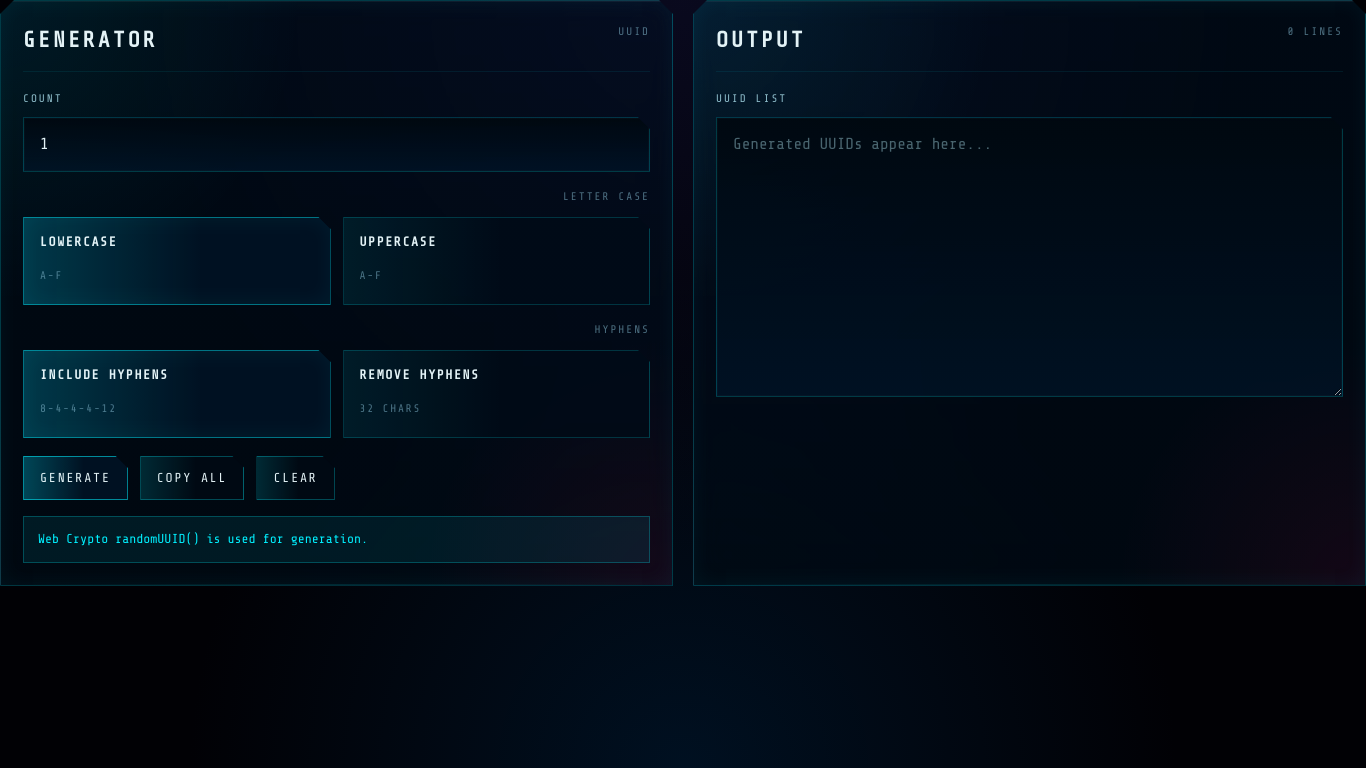
Scenario: encoding and text tools › generates, copies, and clears UUID batches
The image size is (1366, 768).
Replace the text in the number field labelled "Count" with "5" at (336, 144), box [23, 117, 650, 172]
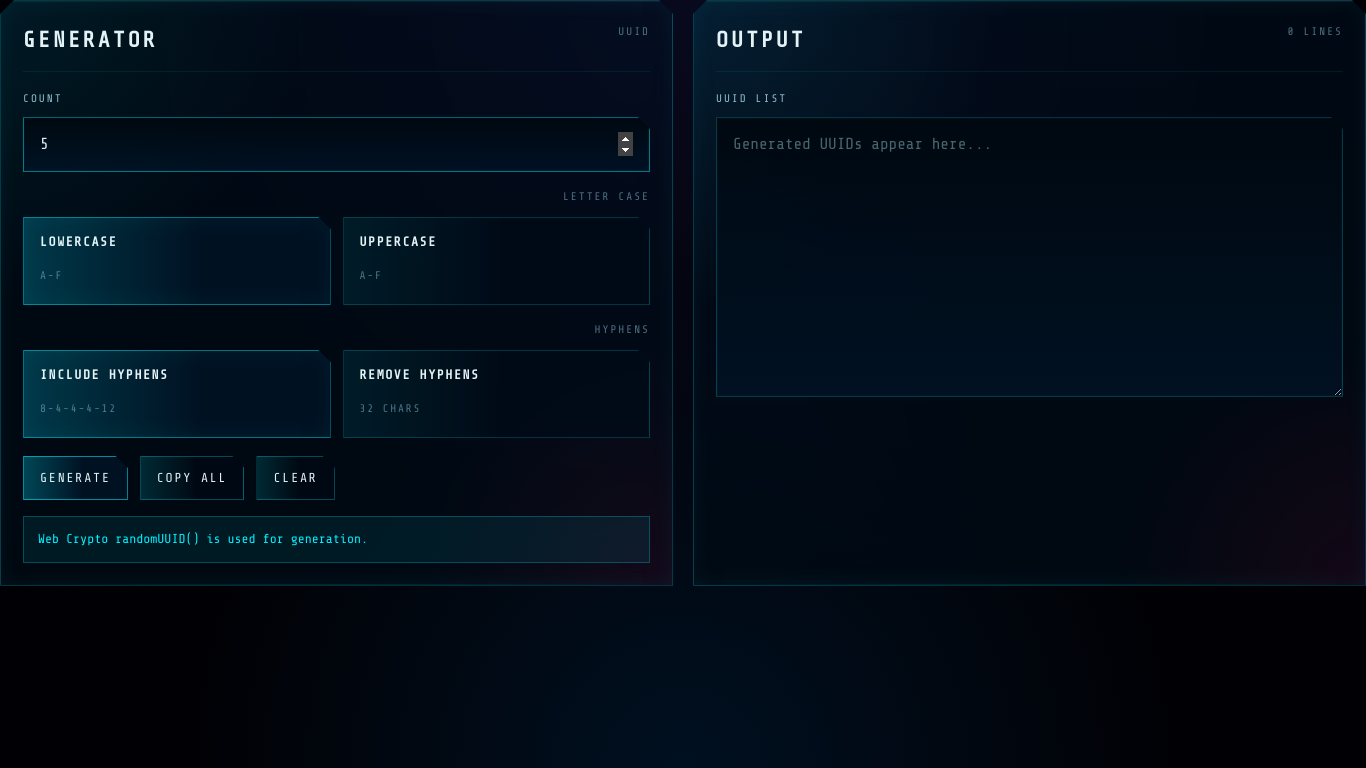
Click the button "Generate" at (75, 478), box [23, 456, 128, 500]
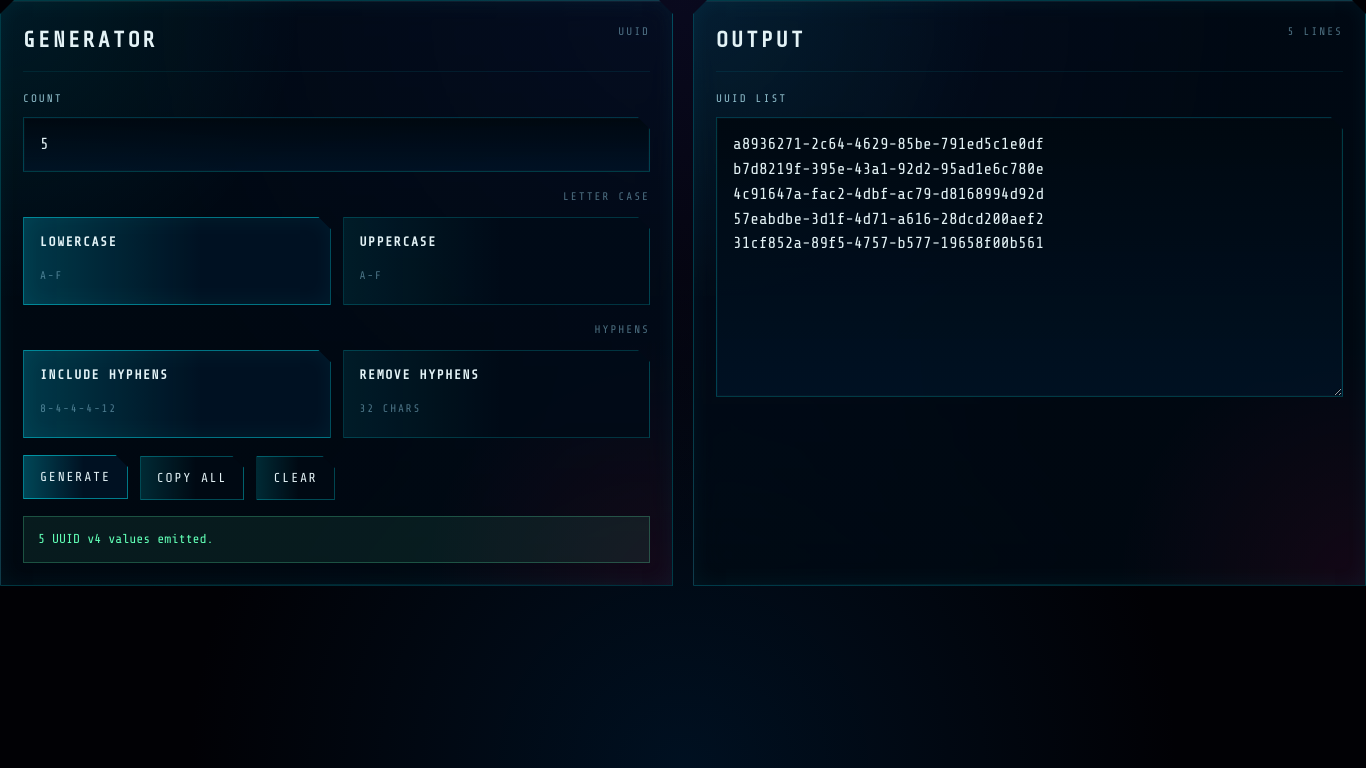
Click the button "Copy All" at (192, 478), box [140, 456, 244, 500]
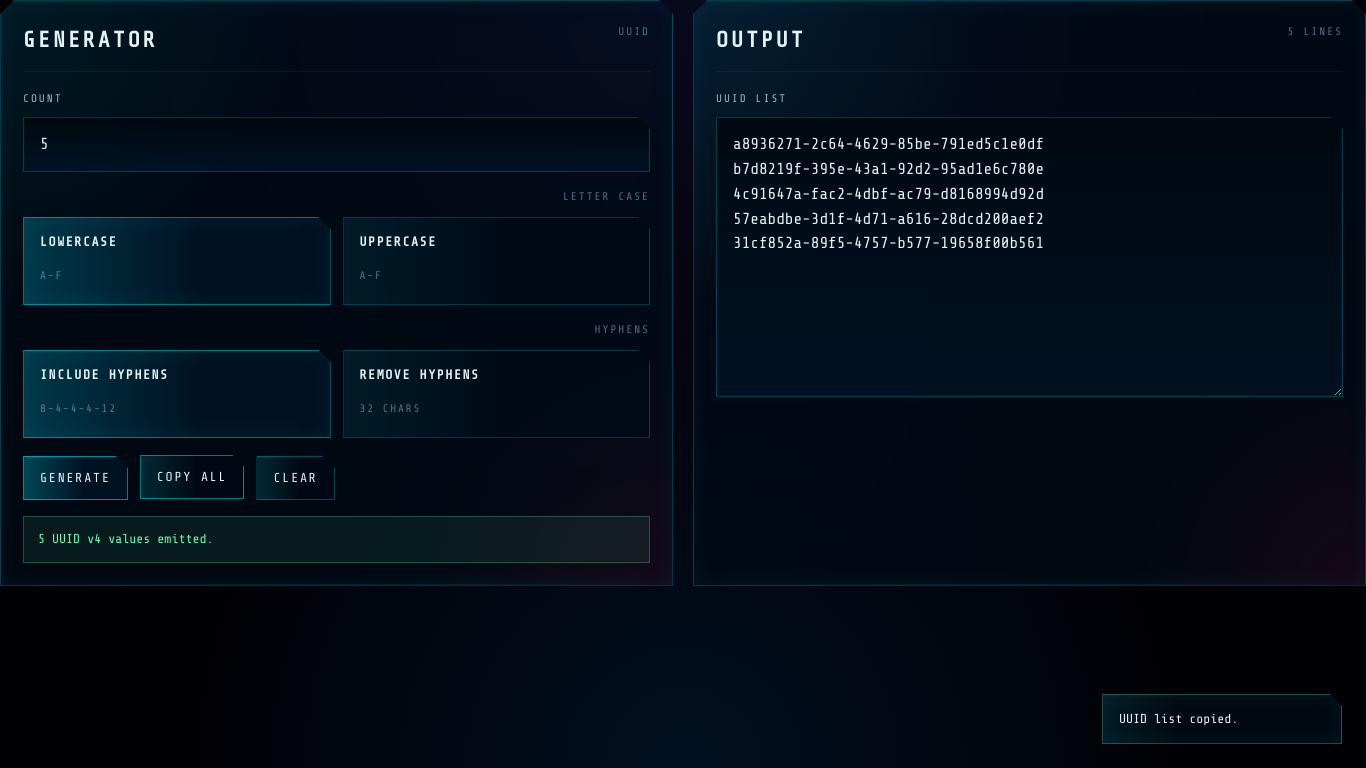
Click the button "Clear" at (296, 478), box [256, 456, 335, 500]
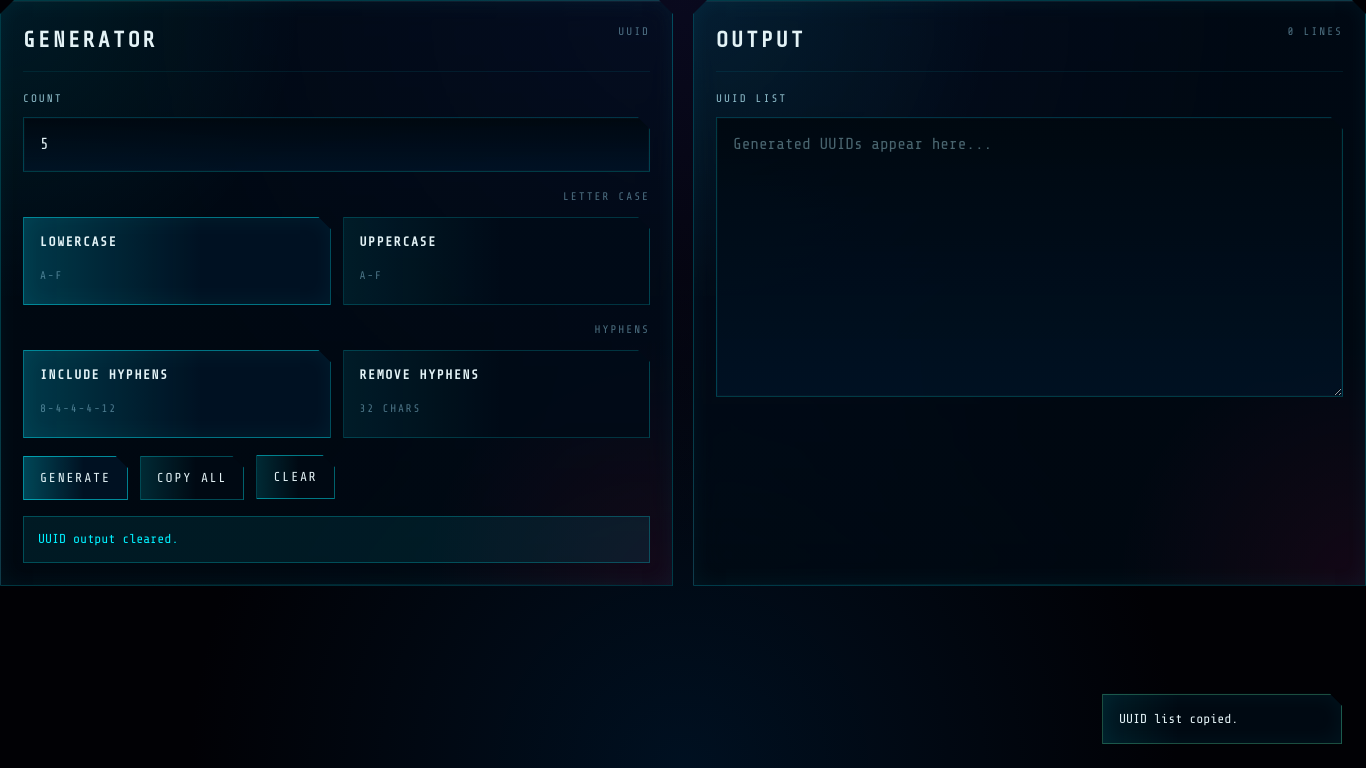
Check: the text box labelled "UUID List" is empty, box [716, 117, 1343, 397]
